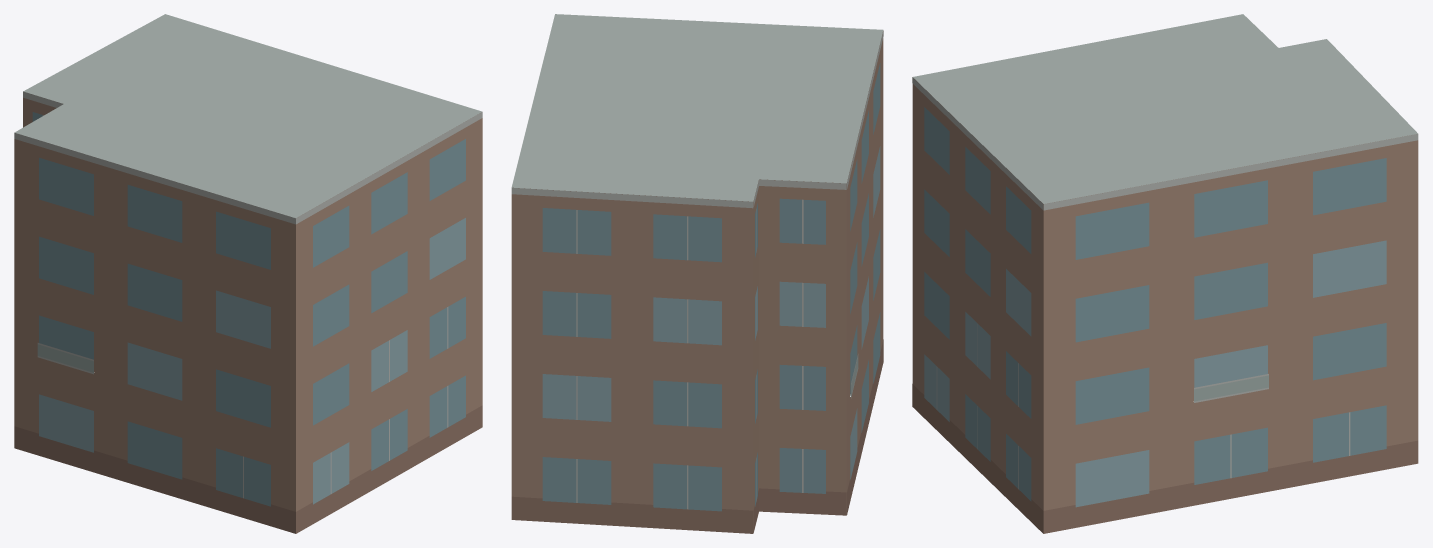
The model's file is survey-upis-32674330.glb.
3 renders of one model, left to right at view 1: azimuth 30°, elevation 25°; view 2: azimuth 150°, elevation 25°; view 3: azimuth 270°, elevation 25°, orthographic. The views are drawn at different scales.
Parts seen in each view (by area): view 1: survey-upis-32674330.tmp; view 2: survey-upis-32674330.tmp; view 3: survey-upis-32674330.tmp.
Part boxes in pixels (left/top/right/bottom): survey-upis-32674330.tmp: left=14, top=14, right=482, bottom=533; survey-upis-32674330.tmp: left=511, top=14, right=883, bottom=533; survey-upis-32674330.tmp: left=912, top=14, right=1418, bottom=533.
Size of the model in its own units: 15.34 by 12.4 by 17.25.
